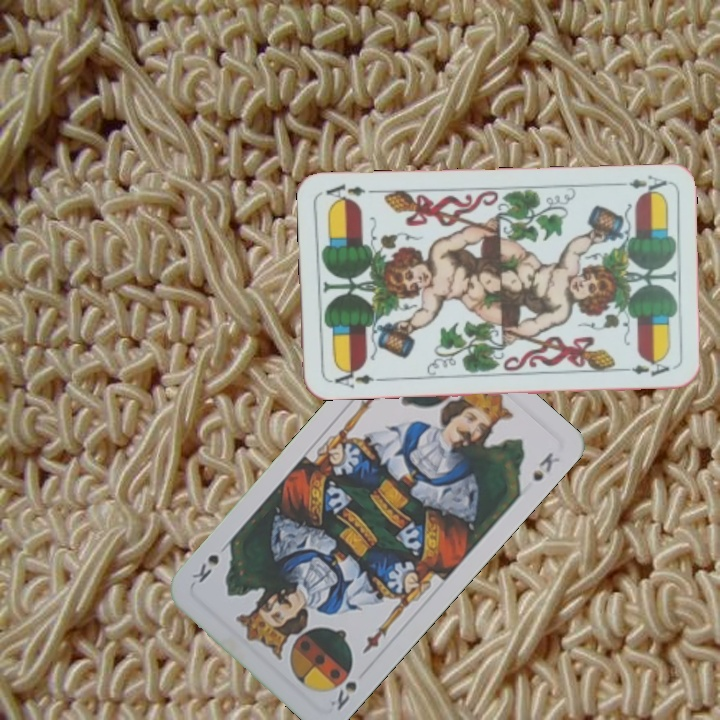EA: (326, 364, 385, 391), (611, 171, 669, 198)
SK: (326, 677, 360, 713)
